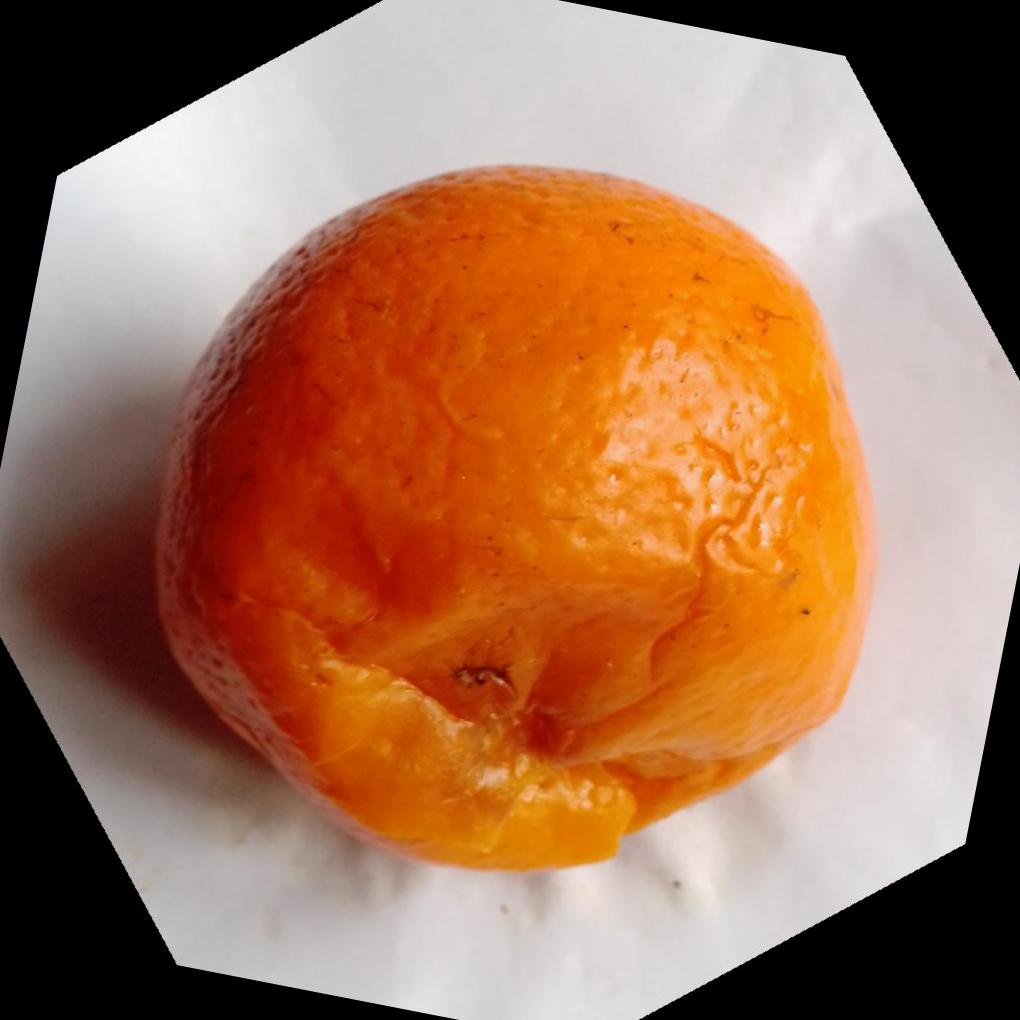FreshOrange: (148, 161, 875, 873)
